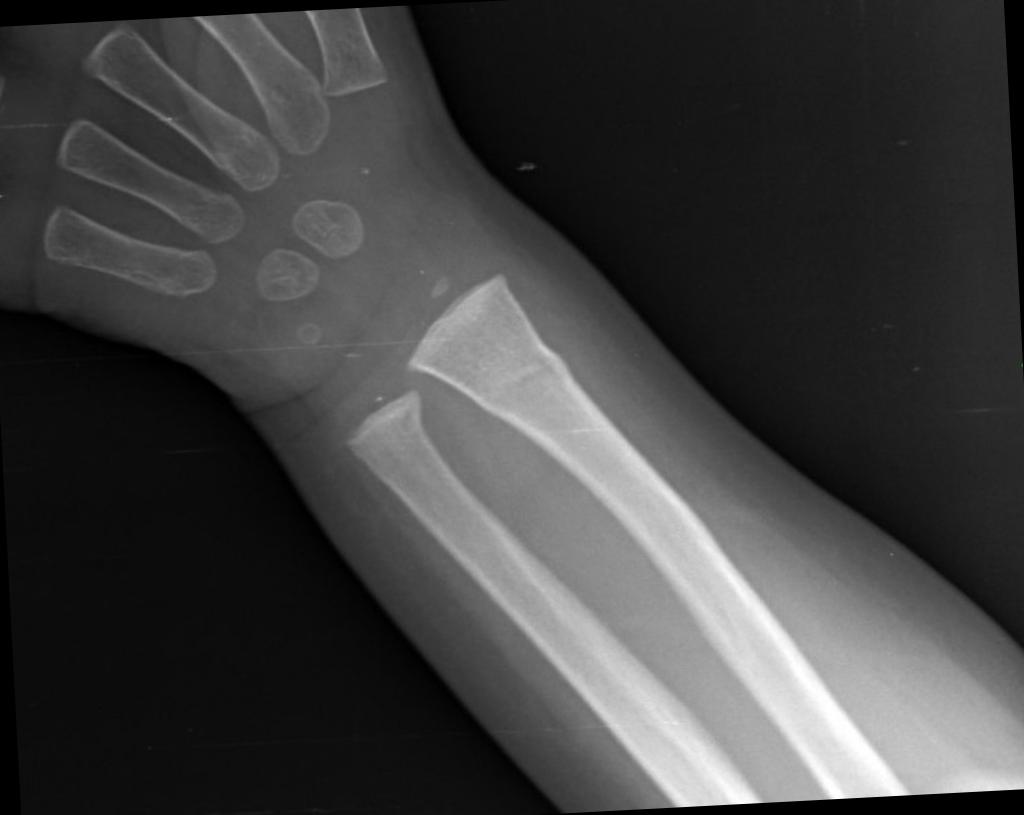line: (468, 350, 564, 413)
